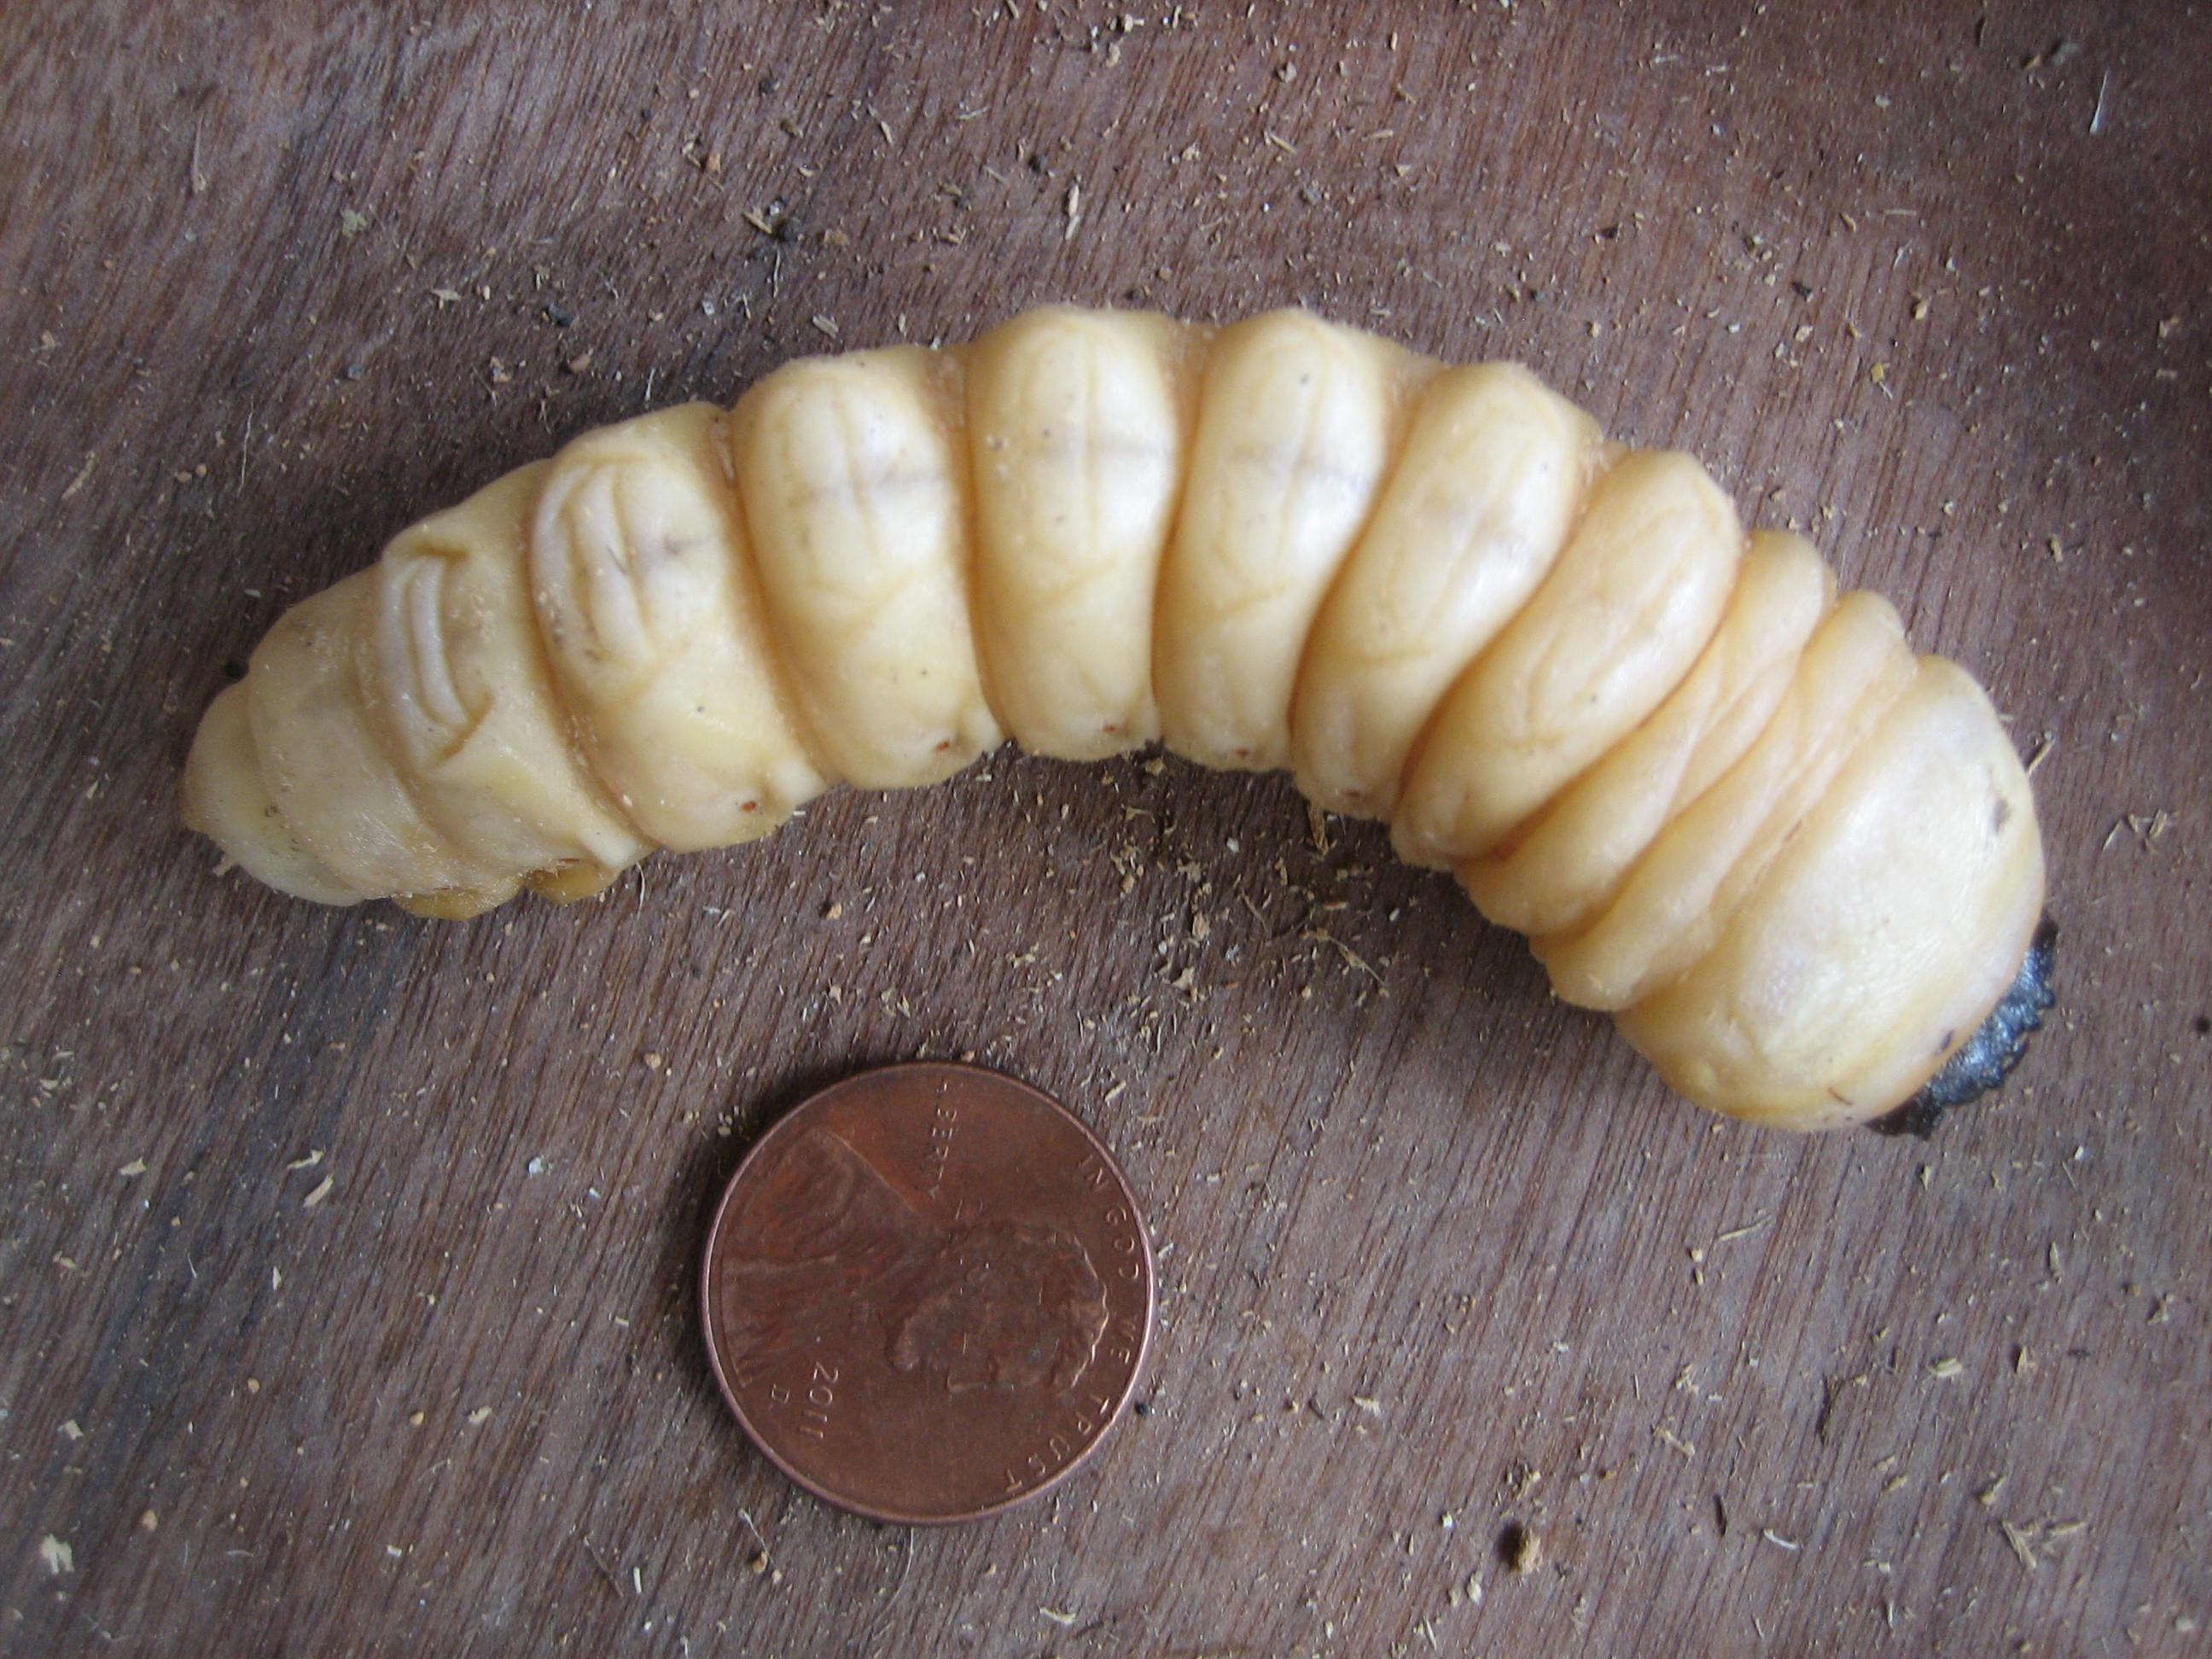grub: (165, 289, 2073, 1143)
